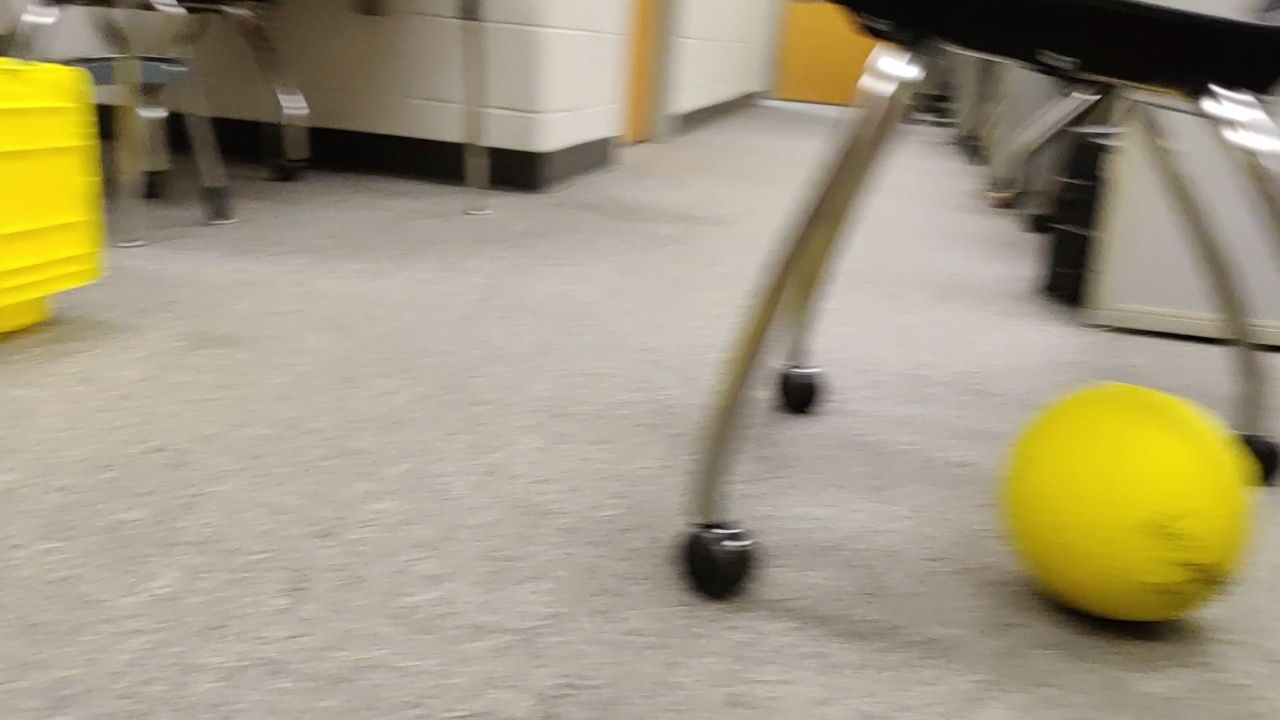Ball: (989, 378, 1266, 638)
